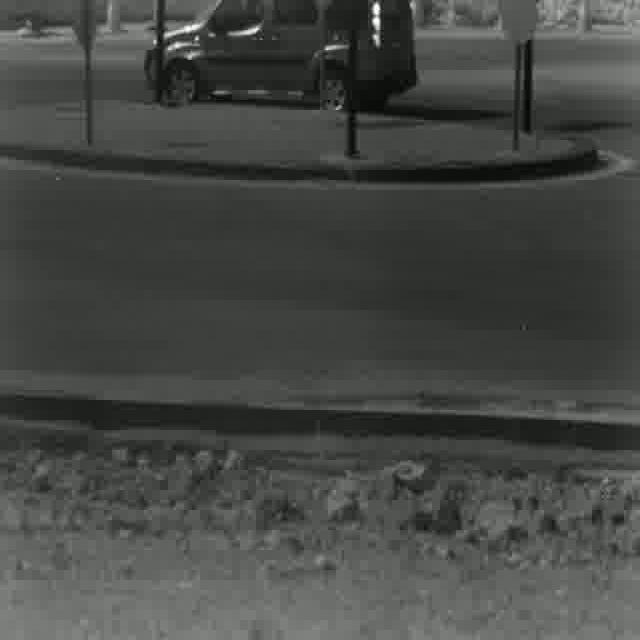Car: (143, 0, 417, 114)
